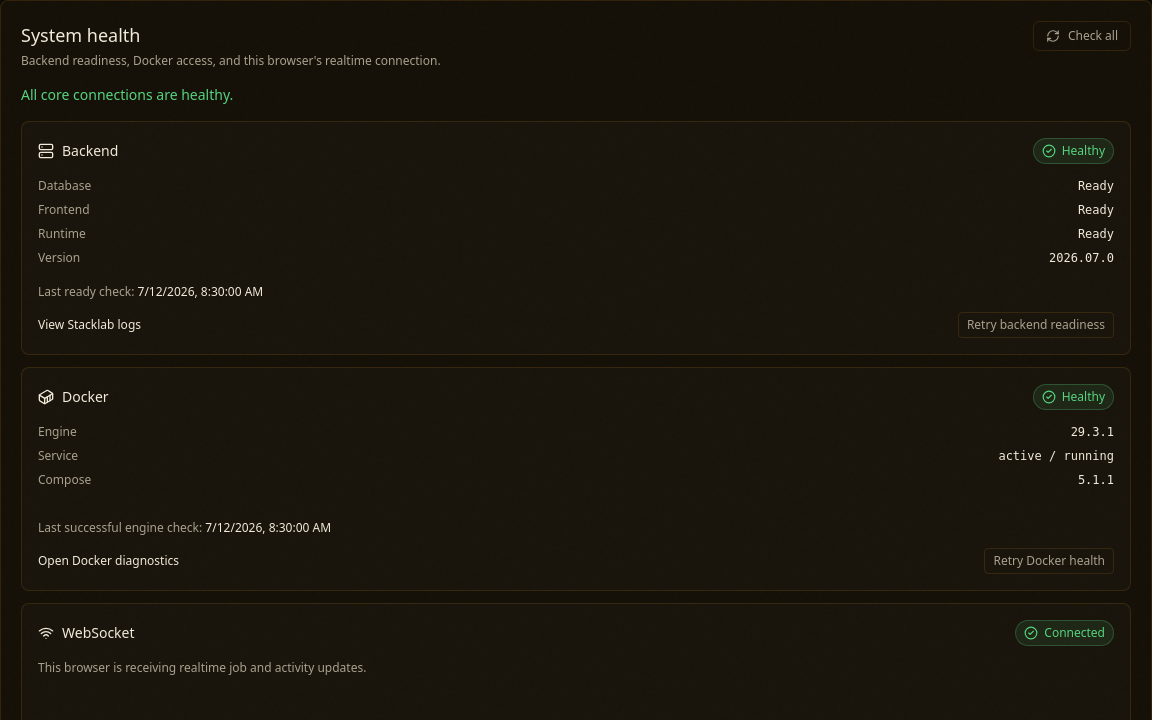
Test: SystemHealthCenter › preserves the last ready state and timestamp when a refresh fails
Expected: the 1st text "Healthy" is shown, x1=1033 y1=138 x2=1114 y2=164
Click the button "Retry backend readiness".
click(1036, 325)  # box x1=958 y1=312 x2=1114 y2=338
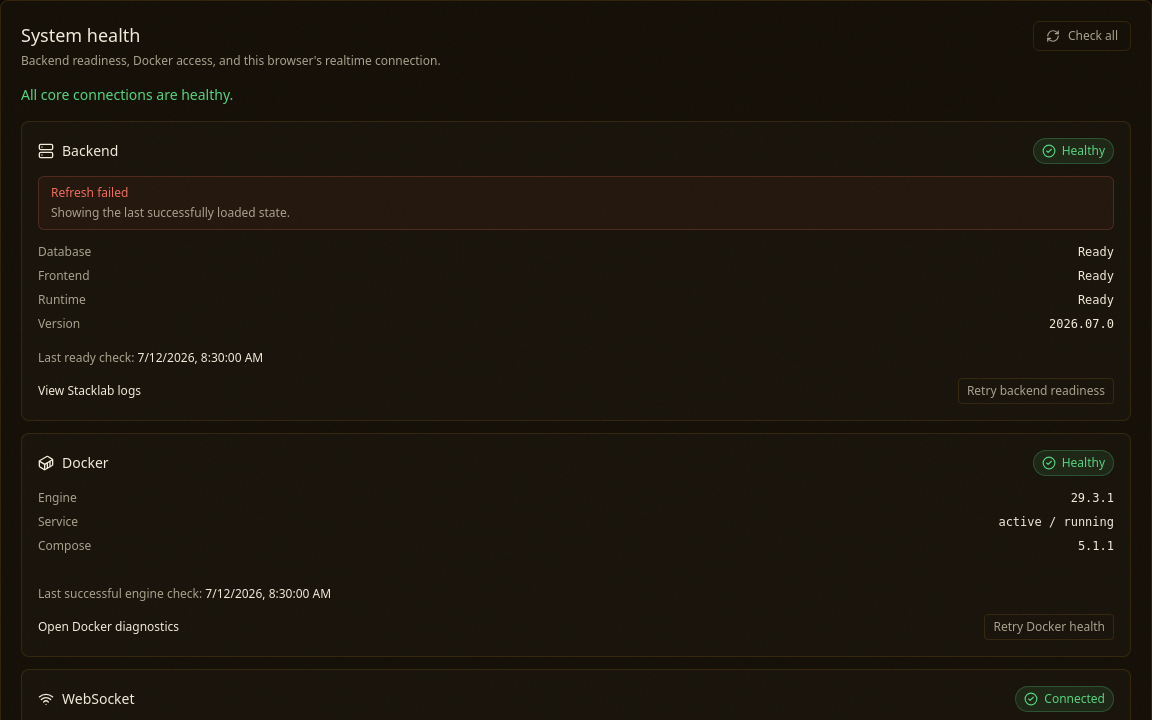
Expected: the 1st text "Healthy" is shown, x1=1033 y1=138 x2=1114 y2=164
Now the message "Refresh failed Showing the last successfully loaded state." is shown, box x1=38 y1=176 x2=1114 y2=230
